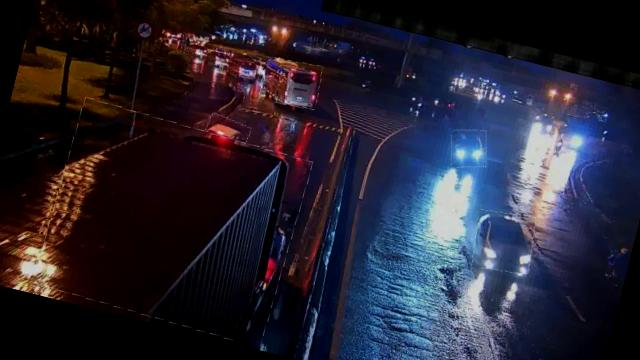Bus: (257, 54, 324, 112)
Car: (467, 206, 540, 278), (446, 125, 492, 173), (203, 113, 251, 151), (233, 60, 260, 82)
Truck: (33, 99, 312, 346)
